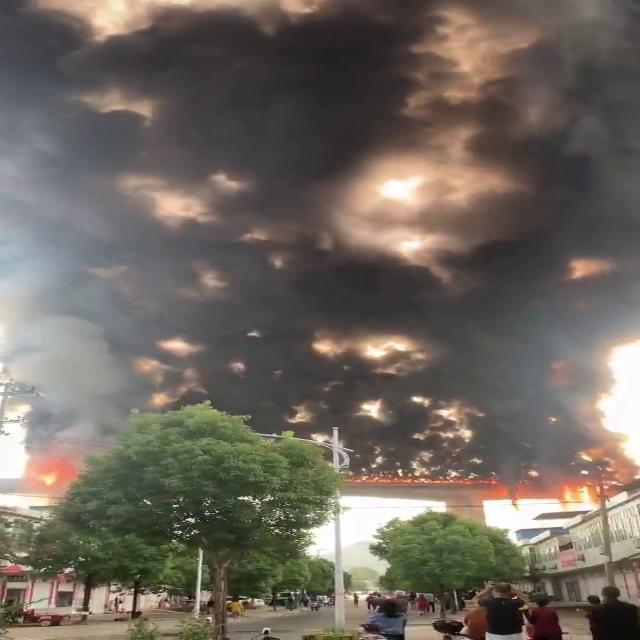Smoke: (12, 0, 628, 490)
